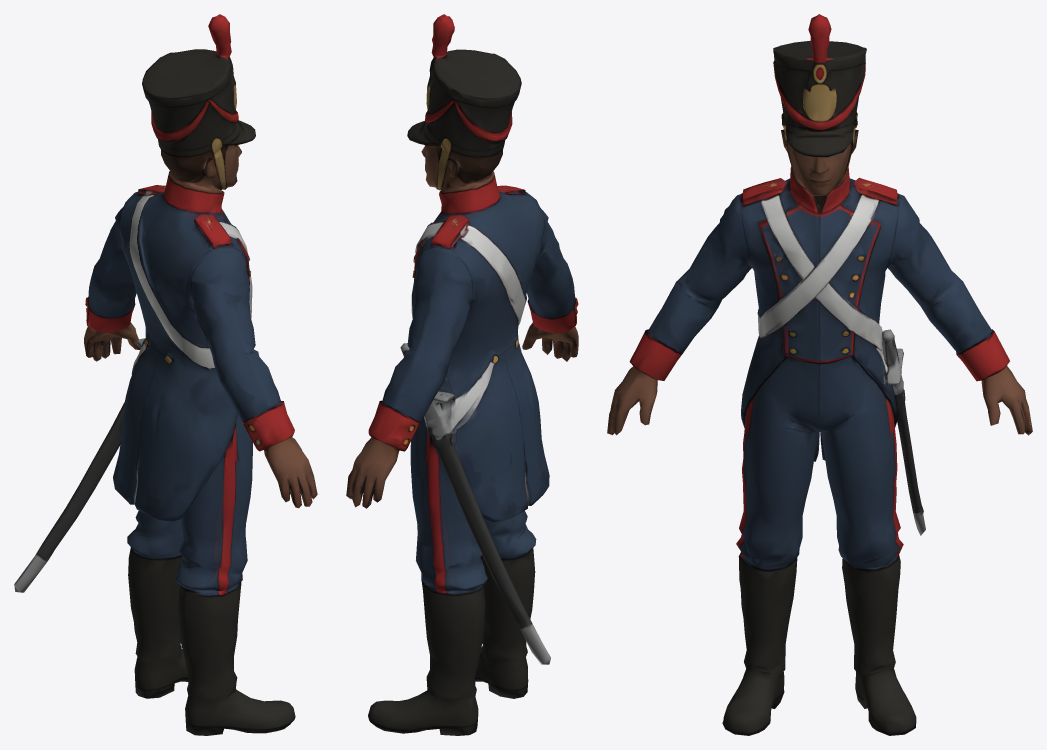
Rendered from 1055043b-0dbc-4ca1-bd88-0bfe24cfdfa6_model_url.glb.
3 views of the same model, side by side, from view 1: azimuth 30°, elevation 25°; view 2: azimuth 150°, elevation 25°; view 3: azimuth 270°, elevation 25° (orthographic). The views are drawn at different scales.
Parts seen in each view (by area): view 1: tripo_node_1055043b-0dbc-4ca1-bd88-0bfe24cfdfa6; view 2: tripo_node_1055043b-0dbc-4ca1-bd88-0bfe24cfdfa6; view 3: tripo_node_1055043b-0dbc-4ca1-bd88-0bfe24cfdfa6.
Boxes of the visible parts, x1=… form: tripo_node_1055043b-0dbc-4ca1-bd88-0bfe24cfdfa6: x1=14, y1=14, x2=317, y2=735; tripo_node_1055043b-0dbc-4ca1-bd88-0bfe24cfdfa6: x1=346, y1=14, x2=578, y2=735; tripo_node_1055043b-0dbc-4ca1-bd88-0bfe24cfdfa6: x1=607, y1=14, x2=1032, y2=735.
Bounding box in the file's own units: 0.2945 × 1 × 0.5457.
Materials: 1 (1 with a texture image).
